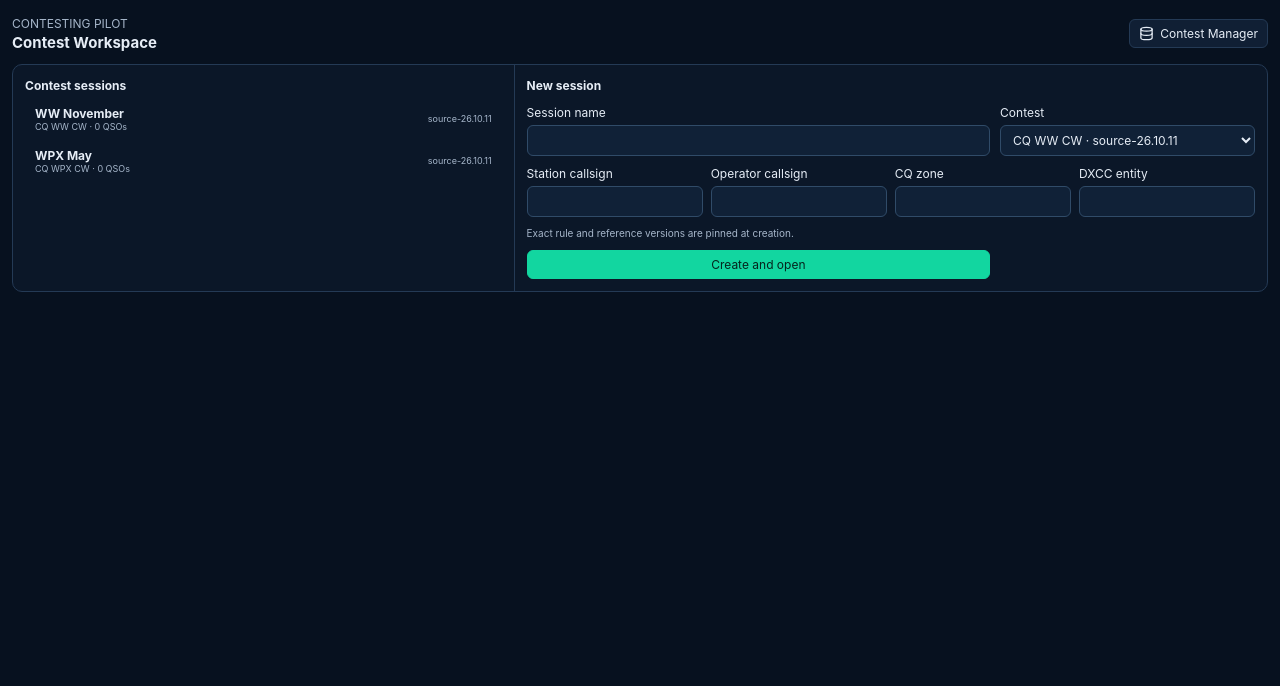
Test: preserves invalid frequency text through an unrelated delayed draft revision and resets it on context switch
expect the text "WW November" is shown: met, box [35,106,127,120]
Click the button "WW November CQ WW CW · 0 QSOs source-26.10.11": (79, 113) [25,100,502,137]
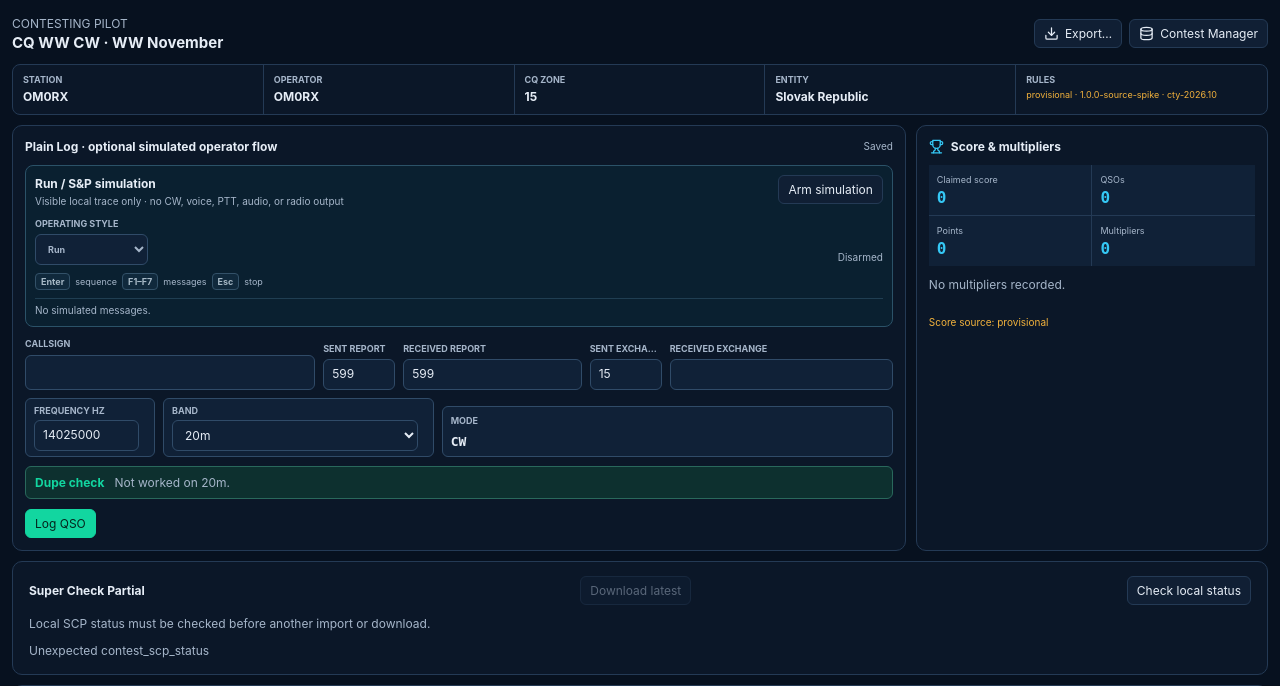
expect the form named "CW contest entry" is shown: met, box [12,125,906,551]
Replace the text in the field named "Frequency Hz" with "abc": (86, 435) [34,420,139,451]
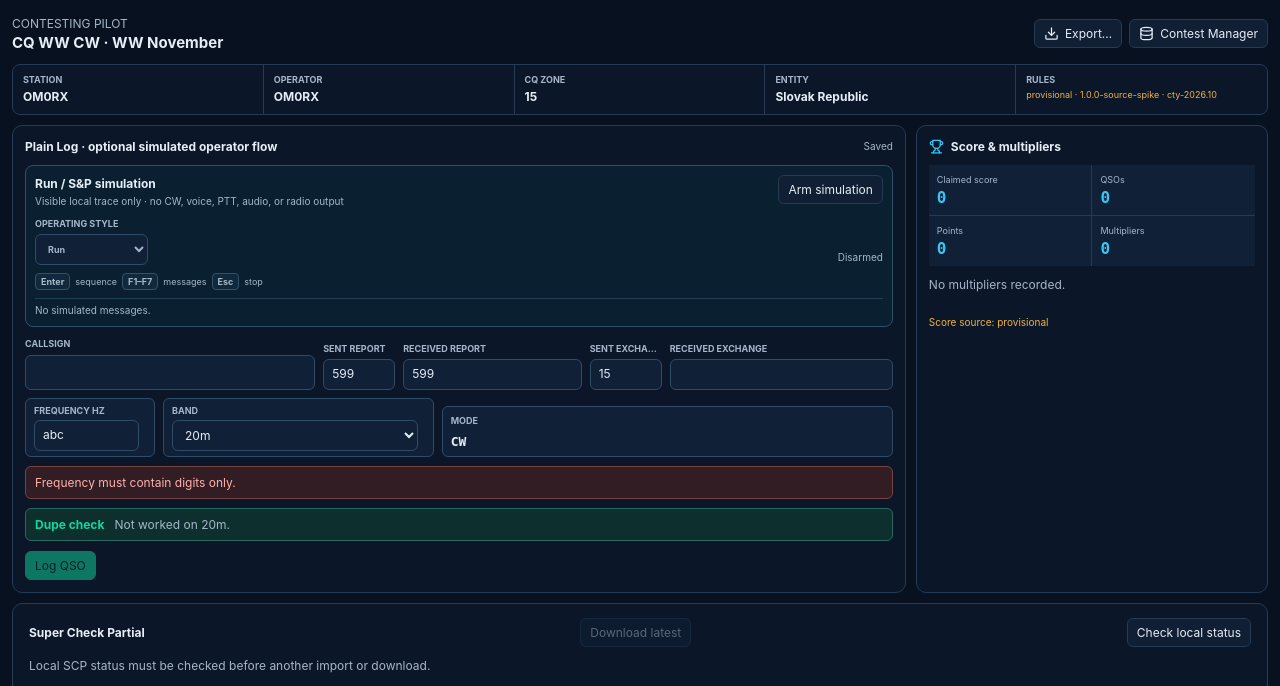
In the field named "Contest callsign": (170, 372) [25,354,315,390], type "K1ABC"
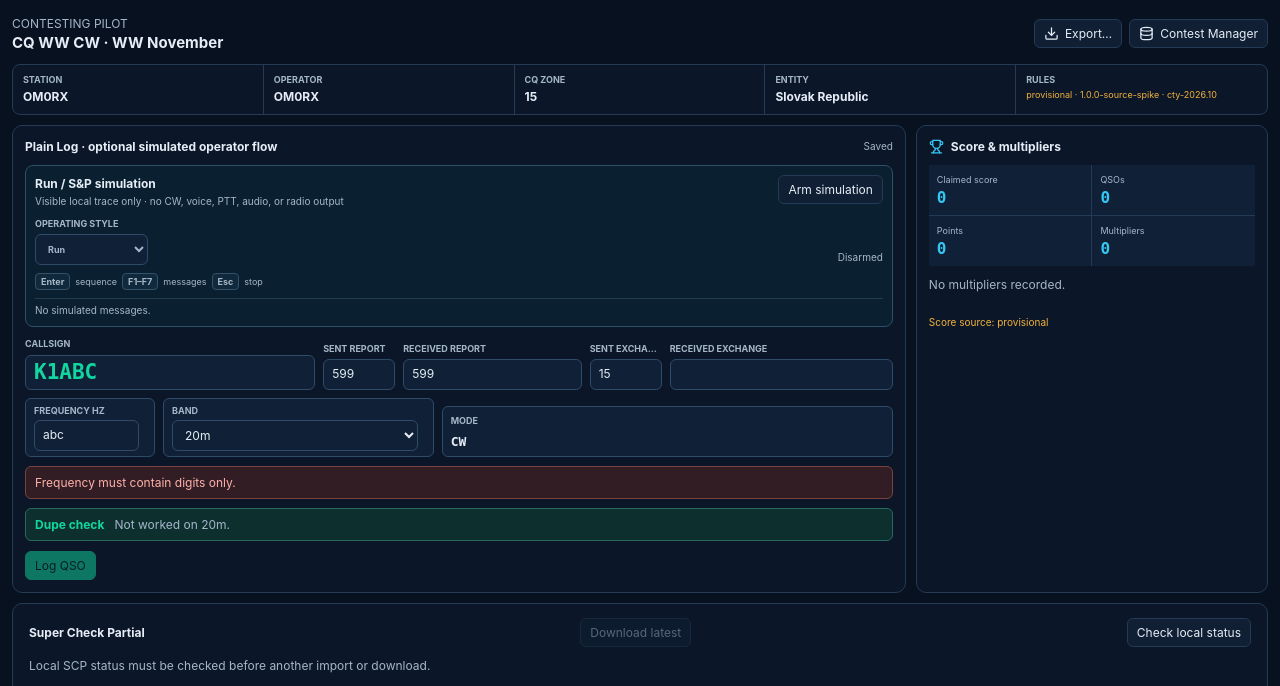
Click the button "Contest Manager": (1199, 33) [1129,19,1268,48]
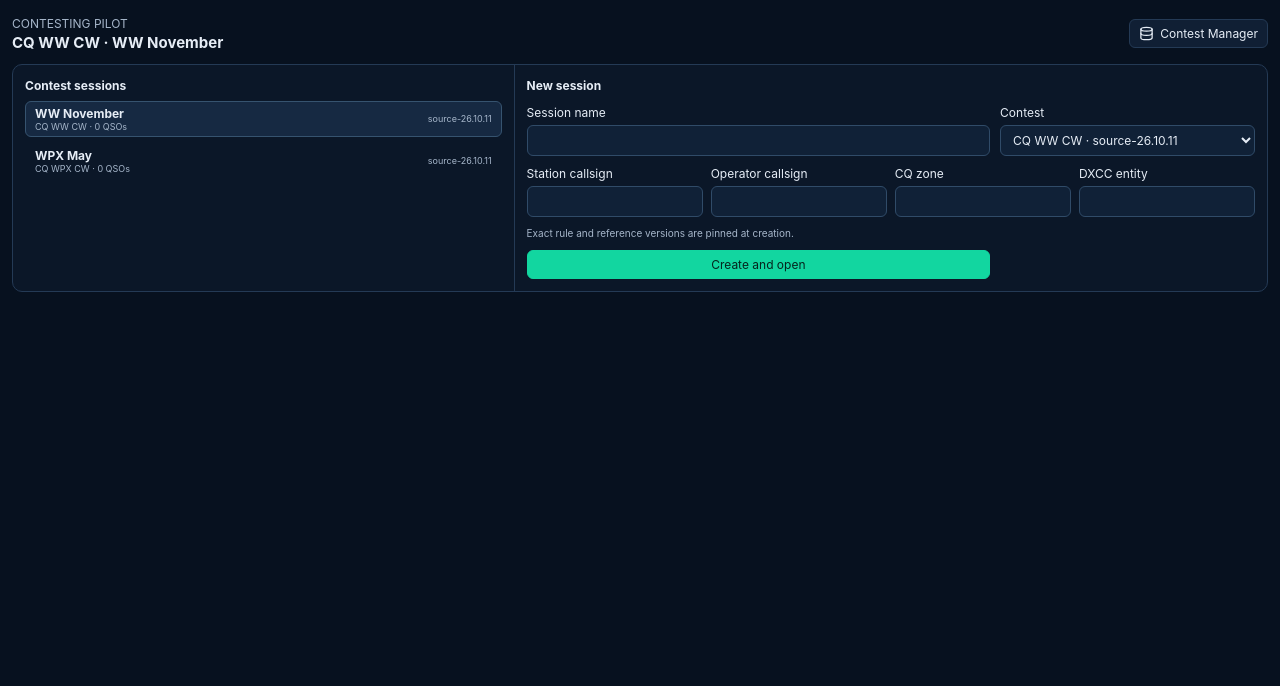
Click the button "WPX May CQ WPX CW · 0 QSOs source-26.10.11": (64, 155) [25,143,502,179]
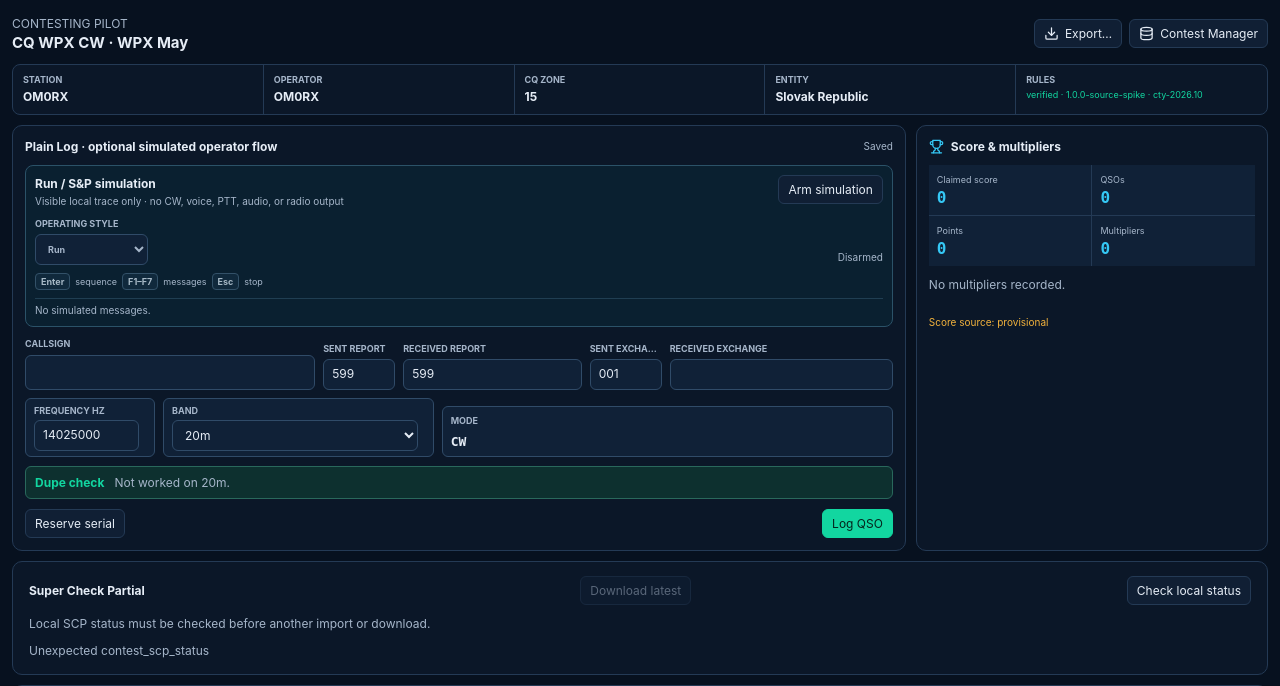
expect the text "Frequency must contain digits only." is not shown: met
expect the field named "Frequency Hz" holds "14025000": met, box [34,420,139,451]
